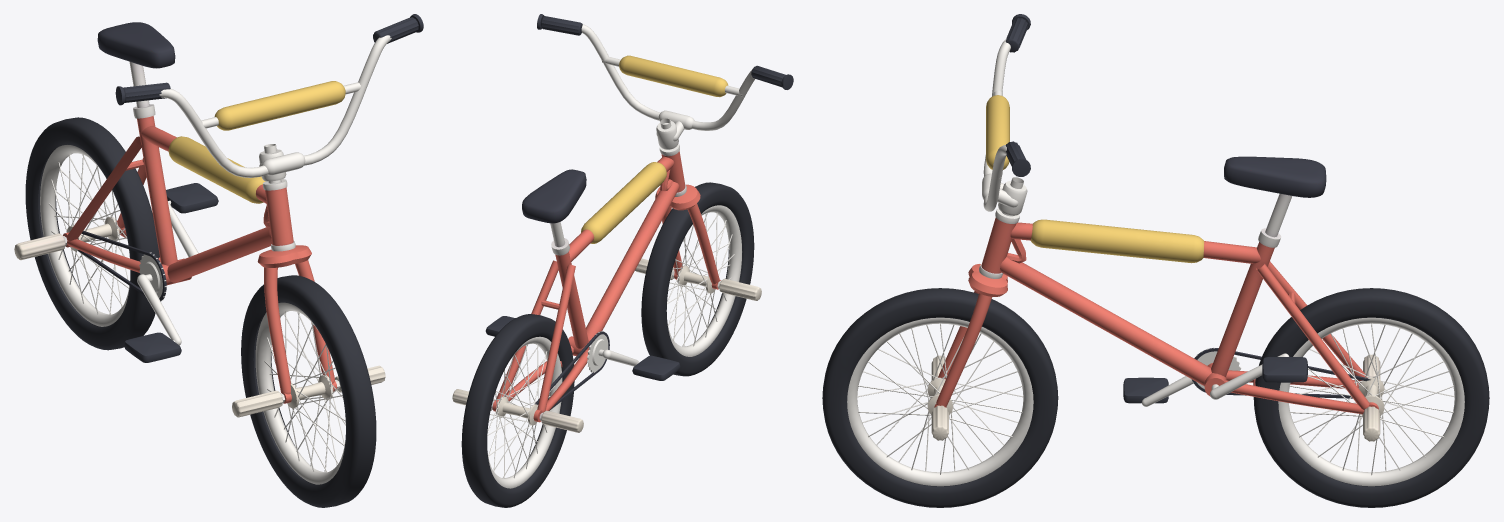
The model's file is bmx_bike.glb.
3 renders of one model, left to right at view 1: azimuth 30°, elevation 25°; view 2: azimuth 150°, elevation 25°; view 3: azimuth 270°, elevation 25°, orthographic. The views are drawn at different scales.
Visible parts, largest first — view 1: bmx-bike_wheel_front, bmx-bike_body, bmx-bike_wheel_rear, bmx-bike_steering, bmx-bike_crank; view 2: bmx-bike_body, bmx-bike_wheel_rear, bmx-bike_wheel_front, bmx-bike_steering, bmx-bike_crank; view 3: bmx-bike_body, bmx-bike_wheel_front, bmx-bike_wheel_rear, bmx-bike_steering, bmx-bike_crank.
Boxes of the visible parts, left/top/right/bottom form: bmx-bike_wheel_front: left=241, top=275, right=376, bottom=507; bmx-bike_body: left=14, top=22, right=295, bottom=301; bmx-bike_wheel_rear: left=25, top=117, right=159, bottom=350; bmx-bike_steering: left=115, top=14, right=423, bottom=417; bmx-bike_crank: left=123, top=183, right=218, bottom=362; bmx-bike_body: left=452, top=143, right=686, bottom=432; bmx-bike_wheel_rear: left=461, top=314, right=574, bottom=507; bmx-bike_wheel_front: left=641, top=182, right=754, bottom=376; bmx-bike_steering: left=537, top=14, right=793, bottom=300; bmx-bike_crank: left=485, top=316, right=680, bottom=380; bmx-bike_body: left=979, top=156, right=1380, bottom=441; bmx-bike_wheel_front: left=822, top=288, right=1058, bottom=507; bmx-bike_wheel_rear: left=1253, top=288, right=1489, bottom=507; bmx-bike_steering: left=931, top=14, right=1030, bottom=440; bmx-bike_crank: left=1123, top=347, right=1307, bottom=406.
Size of the model in its own units: 0.7596 by 1.01 by 1.45.
Materials: 17 (1 with a texture image).
